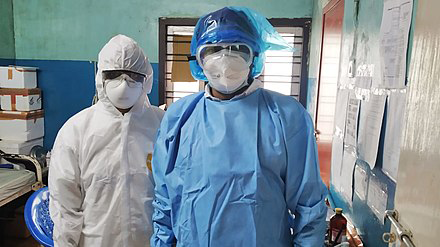Coverall: (149, 7, 326, 246), (48, 33, 153, 246)
Goggles: (196, 42, 253, 70), (101, 69, 146, 88)
with_mask: (202, 49, 249, 93), (104, 74, 143, 109)
